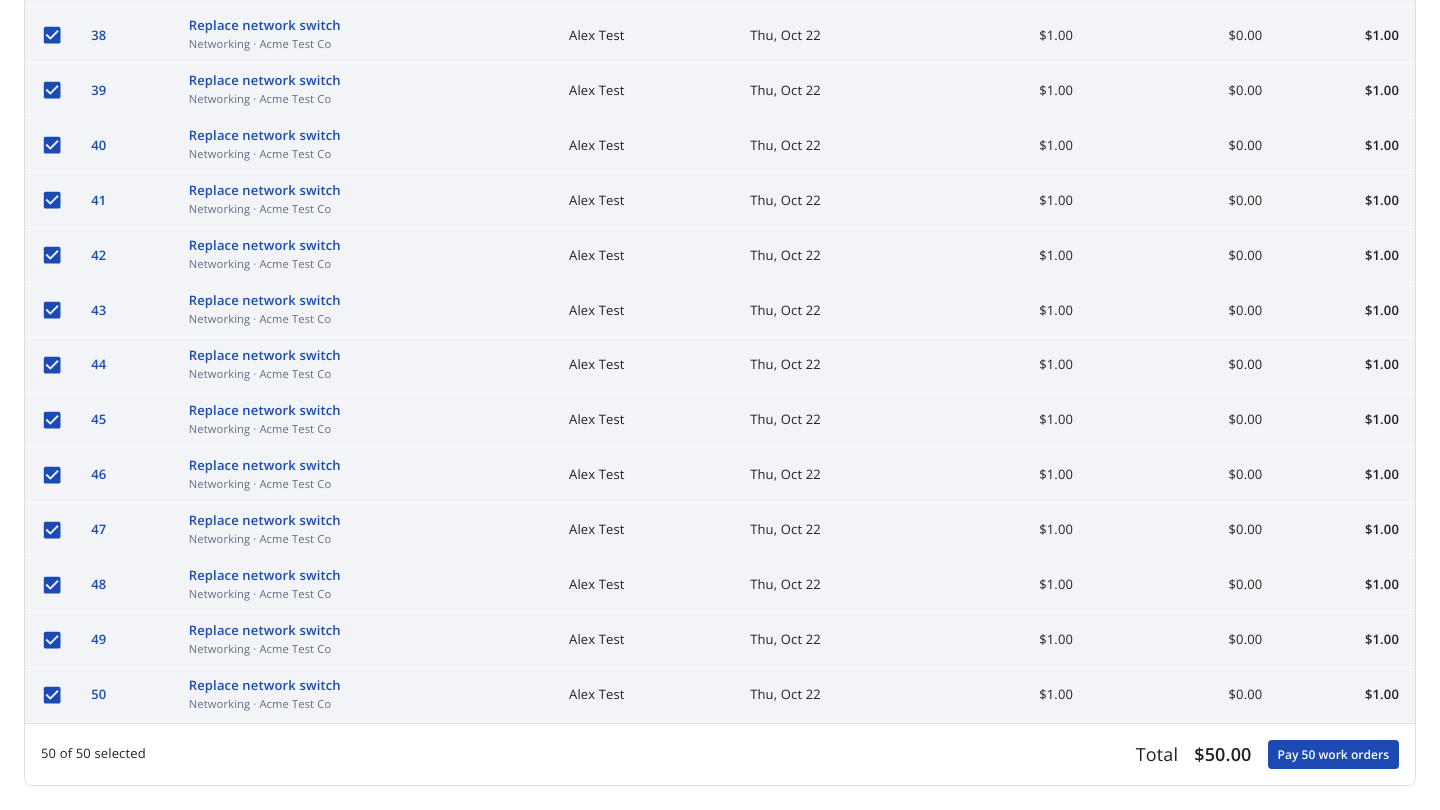
Test: PayRunPage › enforces the payment limit with 50 selected work orders
(page scrolled)
What coordinates should you click on to do the following:
click the button "Pay 50 work orders"
I would click on:
 (1333, 754)
Its box is [1268,740,1399,769].
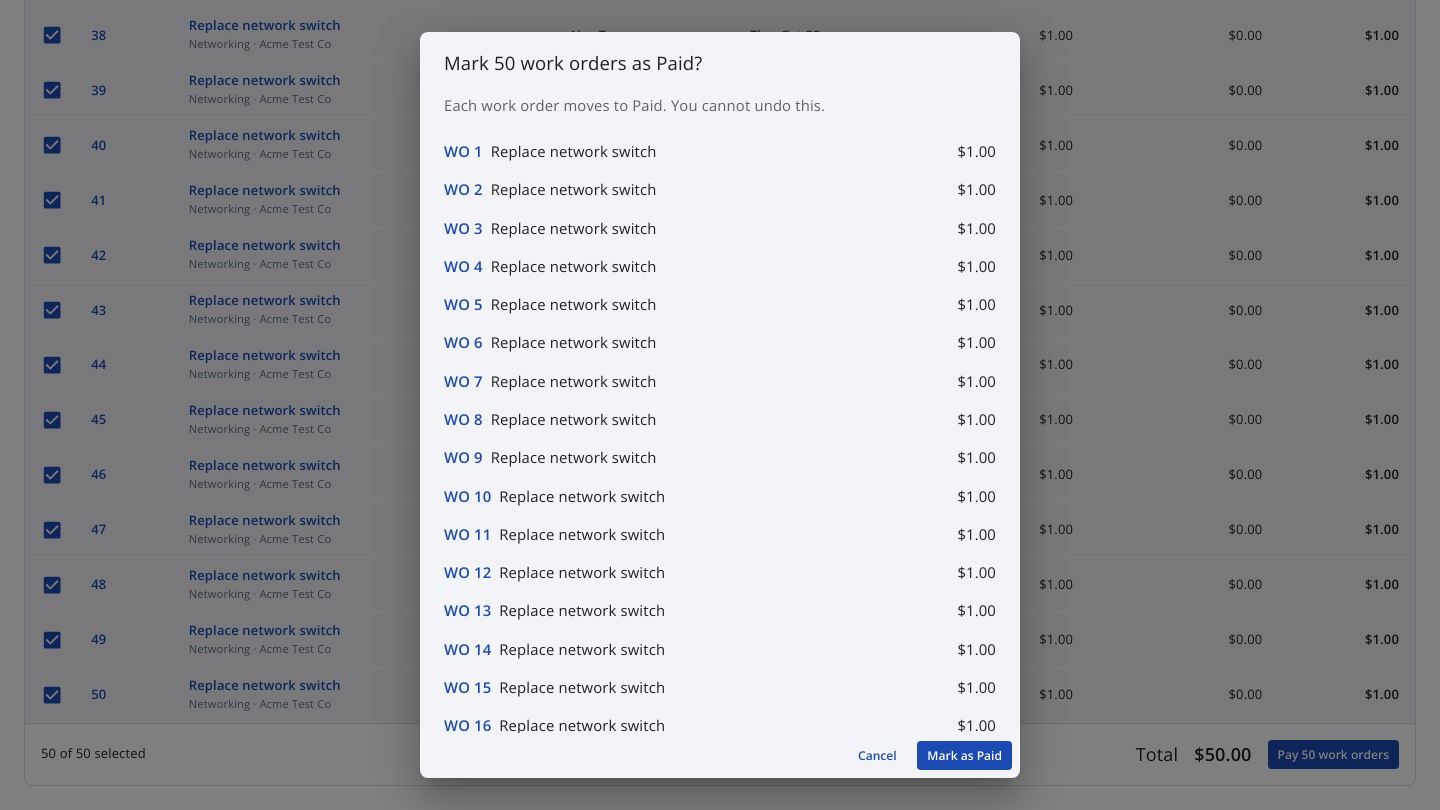
What coordinates should you click on to do the following:
click the button "Mark as Paid"
I would click on:
 (965, 755)
Its box is [917,741,1012,770].
(page scrolled)
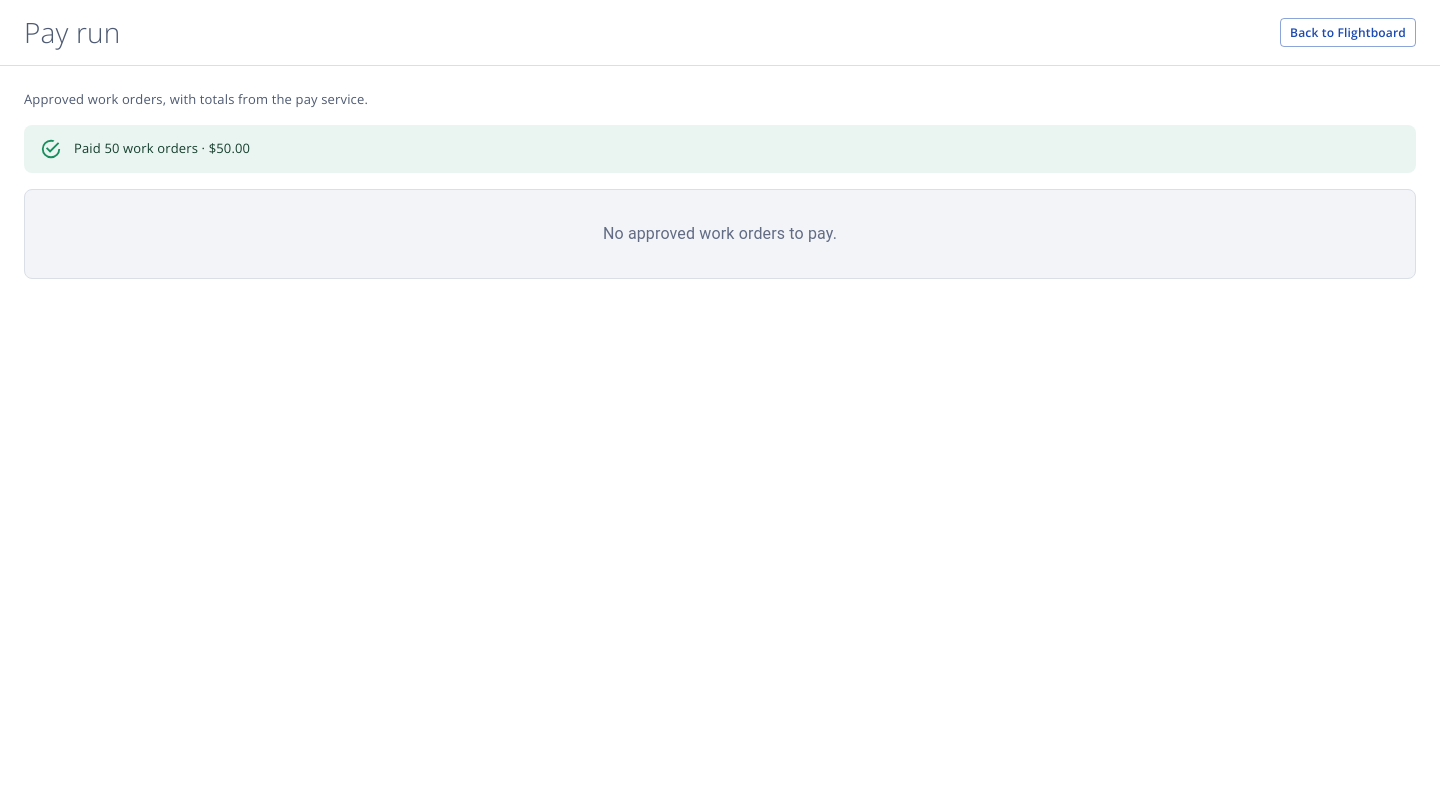
Result: the text "No approved work orders to pay." is shown at [24,189,1416,279]
